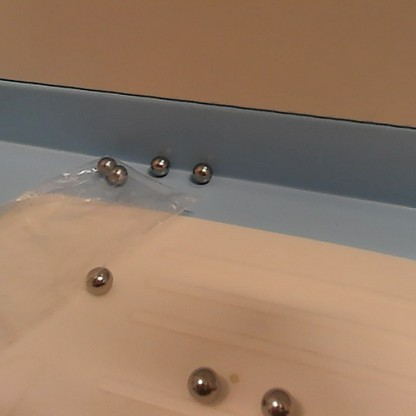ironball: (183, 359, 228, 405), (254, 381, 299, 415), (82, 264, 113, 298), (184, 156, 214, 185), (146, 151, 174, 178), (105, 163, 129, 185), (94, 151, 119, 172)
